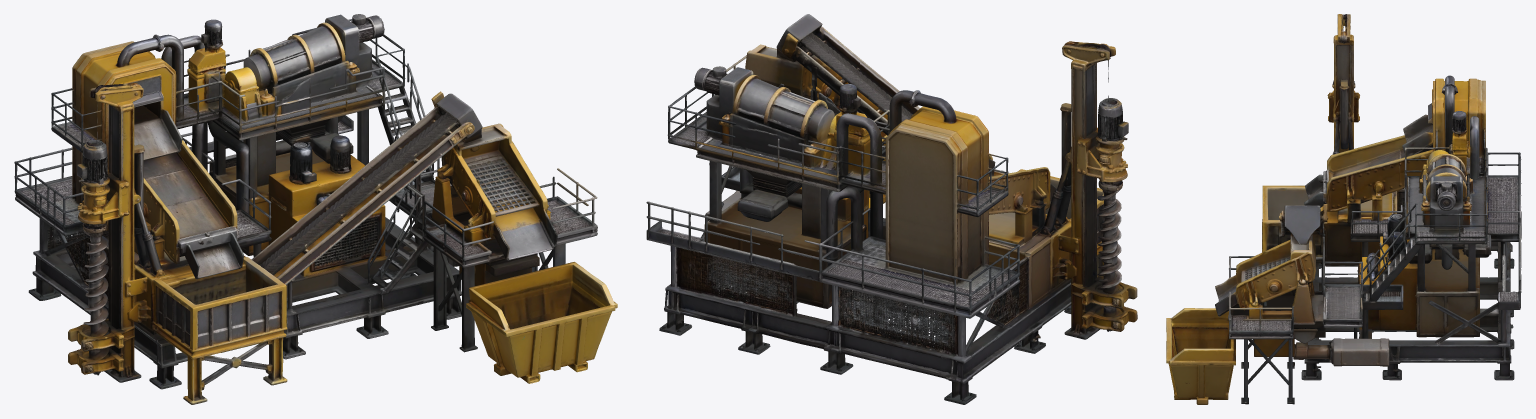
File: plan-4.glb
3 views of the same model, side by side, from view 1: azimuth 30°, elevation 25°; view 2: azimuth 150°, elevation 25°; view 3: azimuth 270°, elevation 25° (orthographic). The views are drawn at different scales.
Parts seen in each view (by area): view 1: tripo_part_5, tripo_part_7, tripo_part_3, tripo_part_0, tripo_part_30, tripo_part_29, tripo_part_13, tripo_part_15, tripo_part_10, tripo_part_24, tripo_part_14, tripo_part_12 (+37 smaller); view 2: tripo_part_30, tripo_part_2, tripo_part_3, tripo_part_31, tripo_part_10, tripo_part_1, tripo_part_4, tripo_part_15, tripo_part_22, tripo_part_16, tripo_part_33, tripo_part_6 (+32 smaller); view 3: tripo_part_0, tripo_part_5, tripo_part_31, tripo_part_12, tripo_part_29, tripo_part_19, tripo_part_8, tripo_part_30, tripo_part_15, tripo_part_23, tripo_part_7, tripo_part_36 (+28 smaller).
Boxes of the visible parts, x1,y1,x2,y2 form: tripo_part_5: (466, 262, 617, 383); tripo_part_7: (152, 257, 287, 404); tripo_part_3: (68, 83, 144, 382); tripo_part_0: (389, 159, 597, 352); tripo_part_30: (64, 34, 189, 230); tripo_part_29: (437, 123, 557, 260); tripo_part_13: (221, 265, 461, 359); tripo_part_15: (176, 67, 382, 198); tripo_part_10: (243, 22, 359, 116); tripo_part_24: (145, 168, 243, 279); tripo_part_14: (259, 112, 458, 277); tripo_part_12: (143, 140, 237, 264); tripo_part_30: (872, 90, 998, 285); tripo_part_2: (719, 253, 1029, 404); tripo_part_3: (1061, 41, 1137, 339); tripo_part_31: (704, 161, 866, 308); tripo_part_10: (729, 75, 834, 167); tripo_part_1: (670, 238, 819, 316); tripo_part_4: (984, 253, 1071, 358); tripo_part_15: (695, 114, 887, 224); tripo_part_22: (719, 208, 988, 314); tripo_part_16: (826, 250, 1015, 307); tripo_part_33: (989, 214, 1077, 307); tripo_part_6: (1076, 95, 1128, 182); tripo_part_0: (1228, 256, 1403, 404); tripo_part_5: (1166, 308, 1235, 404); tripo_part_31: (1415, 244, 1499, 337); tripo_part_12: (1326, 135, 1432, 211); tripo_part_29: (1215, 233, 1315, 316); tripo_part_19: (1313, 300, 1503, 362); tripo_part_8: (1362, 189, 1487, 301); tripo_part_30: (1428, 75, 1485, 170); tripo_part_15: (1406, 150, 1485, 290); tripo_part_23: (1293, 338, 1389, 366); tripo_part_7: (1262, 185, 1325, 263); tripo_part_36: (1421, 176, 1463, 233).
Bounding box in the file's own units: 0.9815 × 0.6201 × 0.8392.
Materials: 76 (76 with a texture image).
